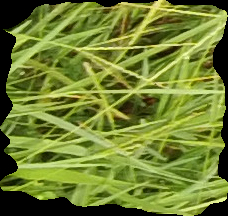grass: (1, 1, 227, 215)
